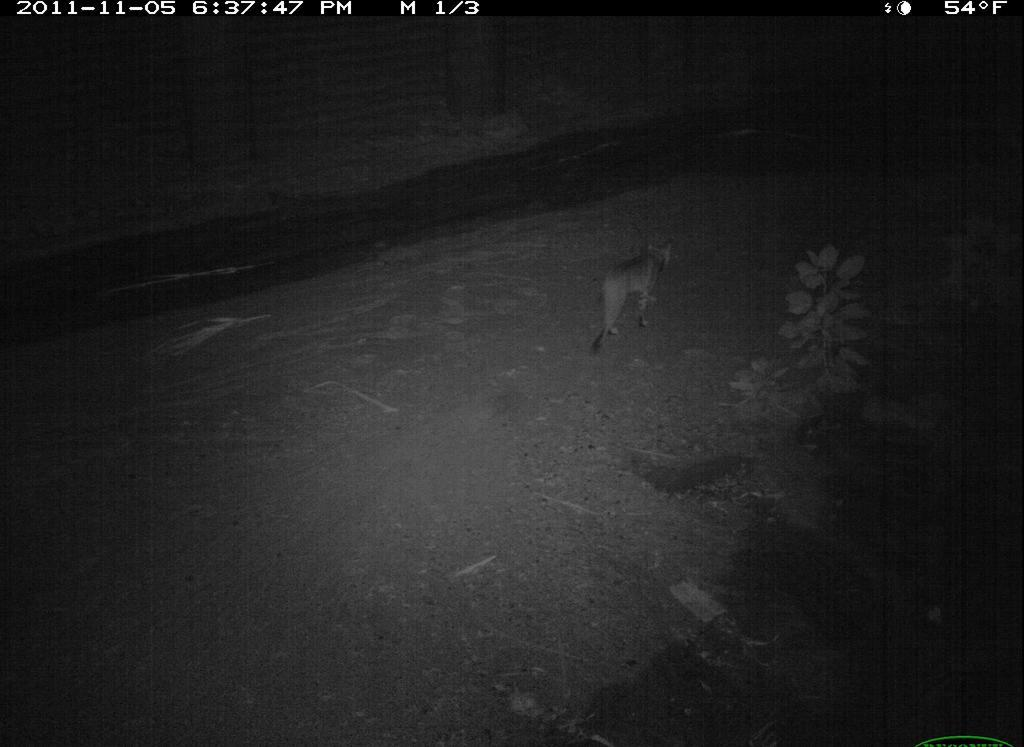bobcat: (585, 233, 685, 360)
